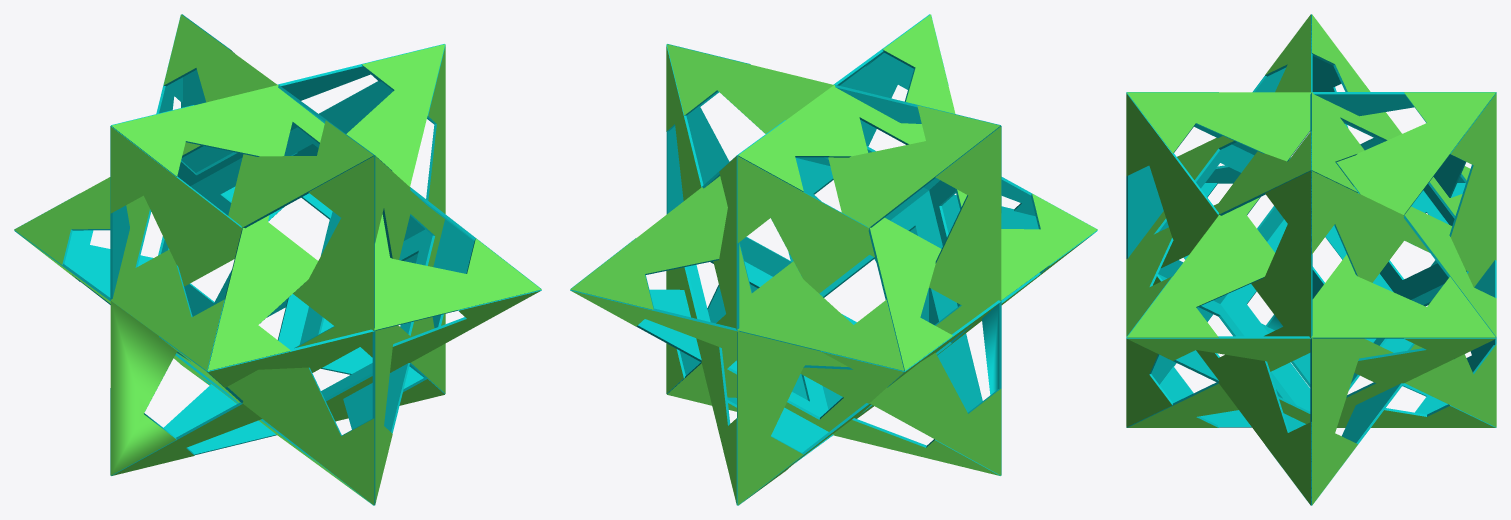
File: EscherS.glb
The picture shows the model from 3 angles, left to right: view 1: azimuth 30°, elevation 25°; view 2: azimuth 150°, elevation 25°; view 3: azimuth 270°, elevation 25°; orthographic projection. The views are drawn at different scales.
Parts seen in each view (by area): view 1: root; view 2: root; view 3: root.
Part boxes in pixels (left/top/right/bottom): root: left=14, top=14, right=541, bottom=505; root: left=570, top=14, right=1097, bottom=505; root: left=1126, top=14, right=1496, bottom=505.
Size of the model in its own units: 7.41 by 7.41 by 7.41.
